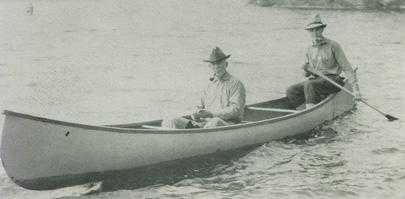kayak: (3, 82, 359, 179)
